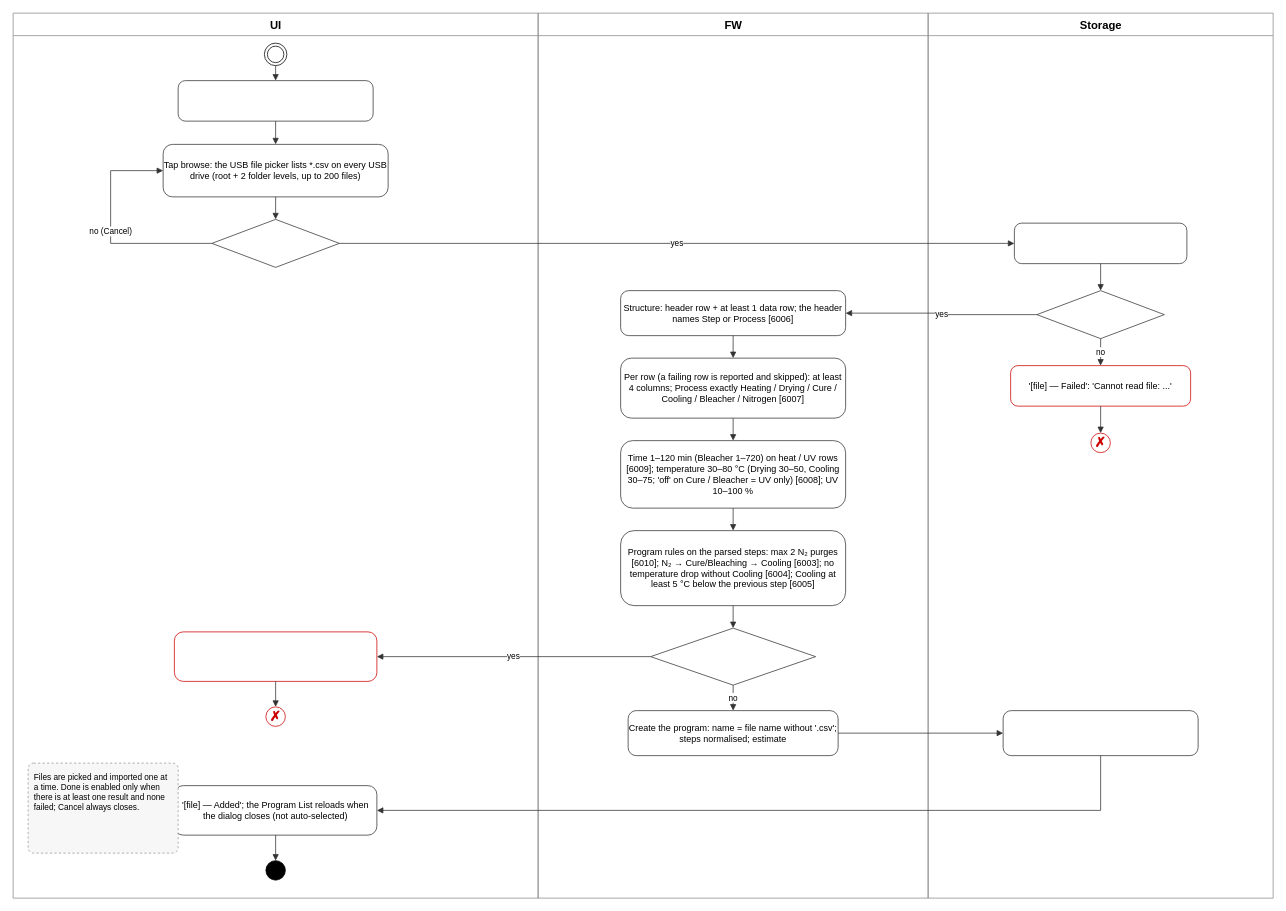
Image size: 1286x911. Some labels were removed from this diagram. The centre of each missing label's shape, as x and y in pixels:
'[file] — Failed' with every collected message listed beneath it; nothing added: (275,656)
Add to the user programs at once (a later failed file does not roll it back): (1100,733)
Any message collected?: (733,656)
File picked?: (275,243)
Press 'CSV': open 'Import from CSV' (example table + limits): (275,100)
Read the file text from the USB drive: (1100,243)
Readable?: (1100,314)
